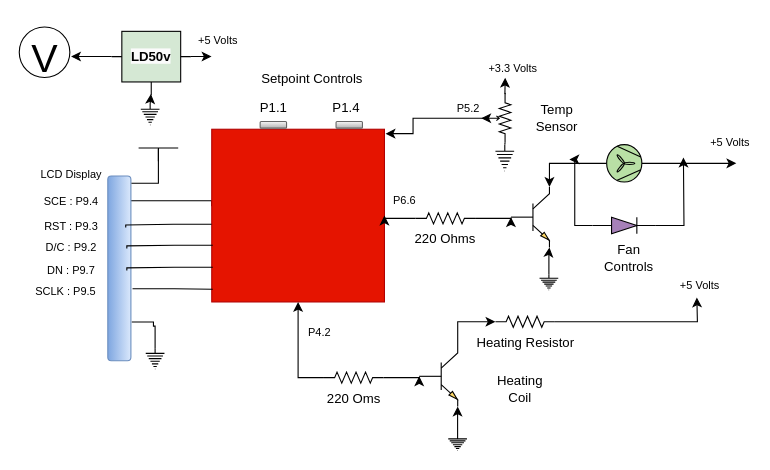
Some shapes in this 770 by 470 pixel diagram are drawn without their labels. The shapes that lost their labels are listed below. From the top down, each one's centre as x and y in pixels, then its label:
point 158,154: V dd
point 297,215: MSP Board
